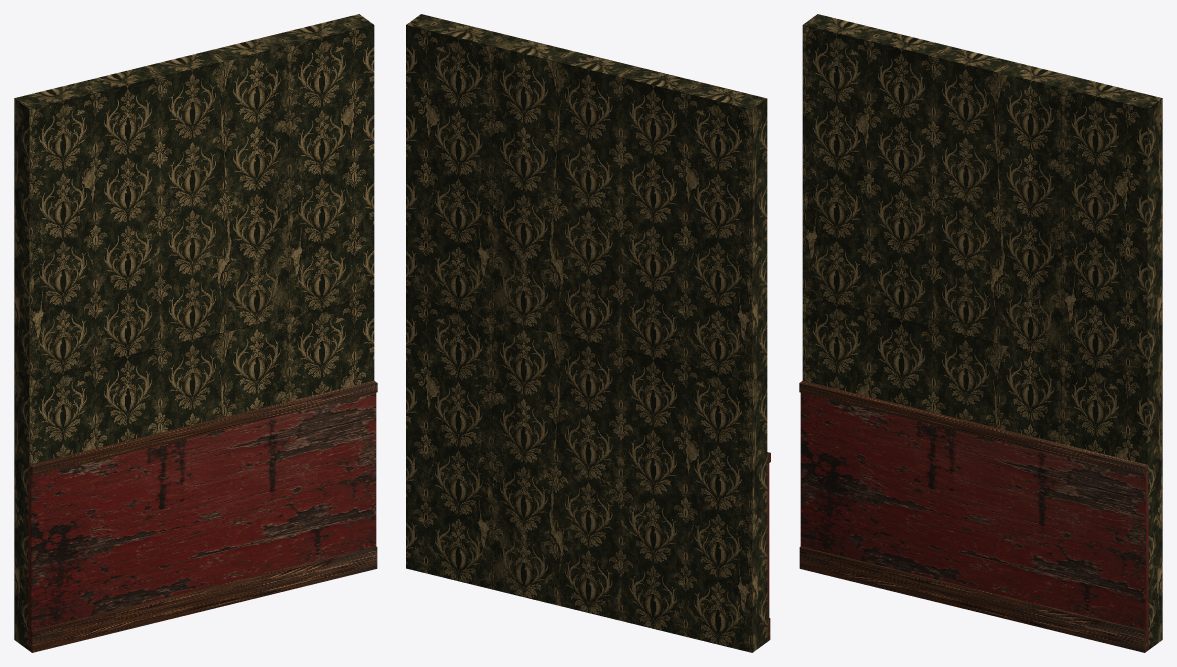
File: HB_Wall_2m.fbx
3 views of the same model, side by side, from view 1: azimuth 30°, elevation 25°; view 2: azimuth 150°, elevation 25°; view 3: azimuth 330°, elevation 25° (orthographic).
Parts seen in each view (by area): view 1: HB_Wall_2m; view 2: HB_Wall_2m; view 3: HB_Wall_2m.
Boxes of the visible parts, x1=… form: HB_Wall_2m: x1=14, y1=14, x2=377, y2=652; HB_Wall_2m: x1=406, y1=14, x2=770, y2=652; HB_Wall_2m: x1=799, y1=14, x2=1162, y2=652.
Bounding box in the file's own units: 2 × 3 × 0.185.
Materials: 2 (2 with a texture image).
